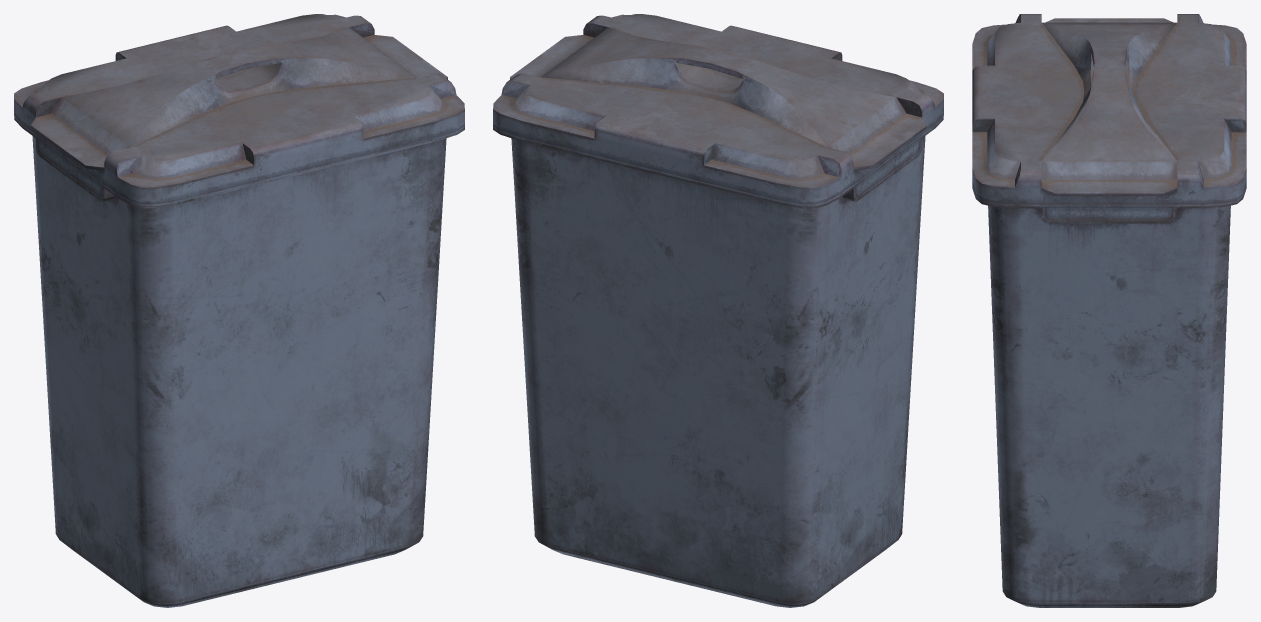
Rendered from GarbageBox_A.fbx.
3 views of the same model, side by side, from view 1: azimuth 30°, elevation 25°; view 2: azimuth 150°, elevation 25°; view 3: azimuth 270°, elevation 25° (orthographic).
Parts seen in each view (by area): view 1: GarbageBox_A; view 2: GarbageBox_A; view 3: GarbageBox_A.
Boxes of the visible parts, x1=… form: GarbageBox_A: x1=14, y1=14, x2=464, y2=607; GarbageBox_A: x1=493, y1=14, x2=943, y2=607; GarbageBox_A: x1=972, y1=14, x2=1246, y2=607.
Size of the model in its own units: 54.64 by 70.18 by 36.17.
1 material, 1 textured.
